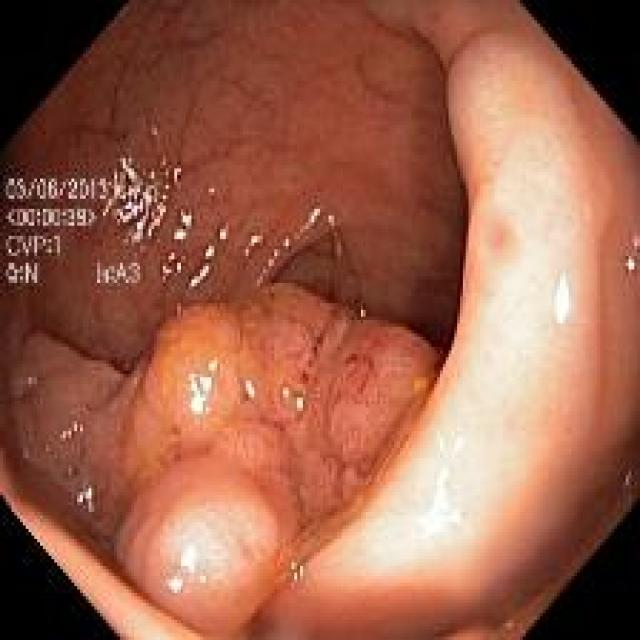Polyps: (10, 284, 441, 637)
